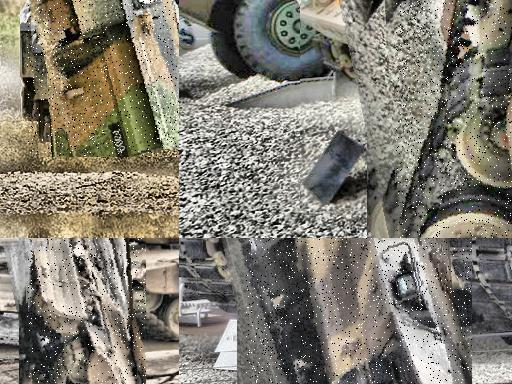tanks: (253, 239, 472, 384), (397, 1, 512, 239), (43, 1, 180, 158), (28, 239, 146, 384)
